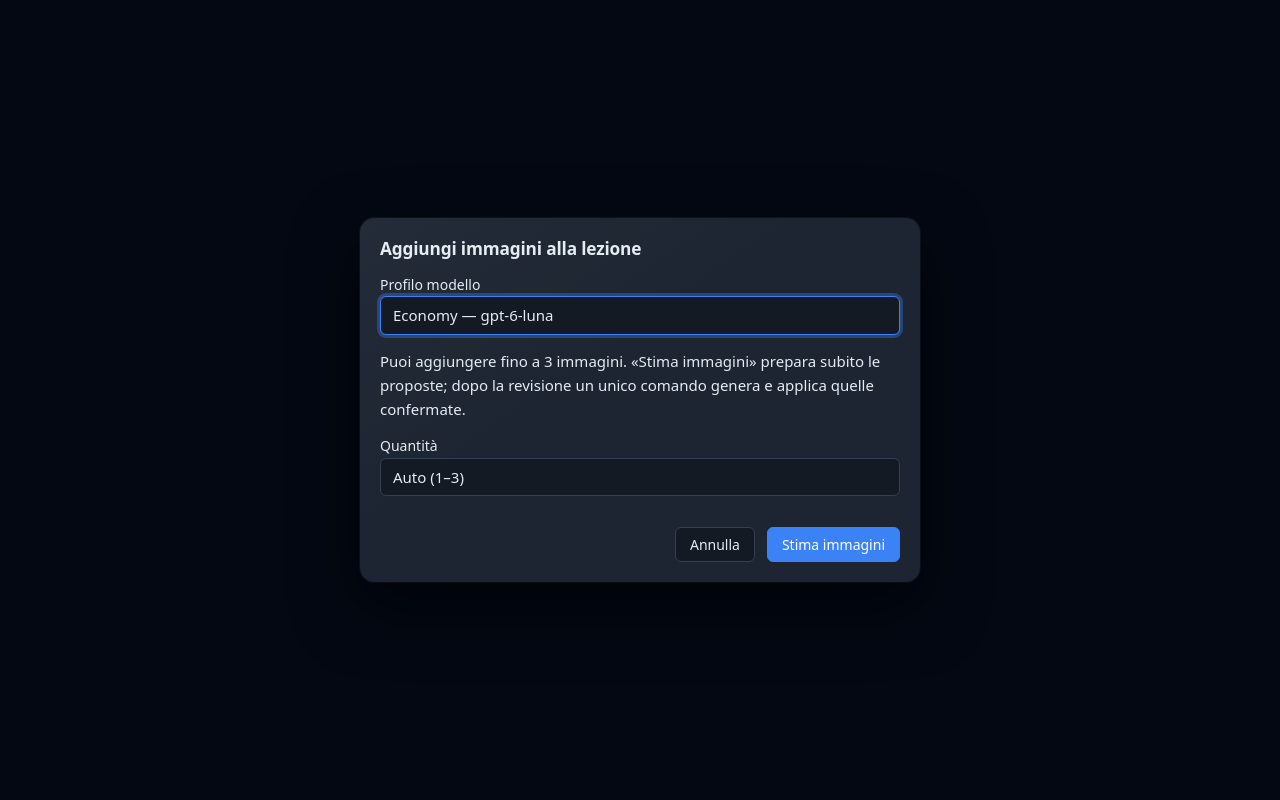
Scenario: LessonMultiVisualWorkflowDialog › salta la generazione di uno slot staged e riusa promotionRequestId al retry
Click the button "Stima immagini" at (833, 544), box [767, 527, 900, 562]
(page scrolled)
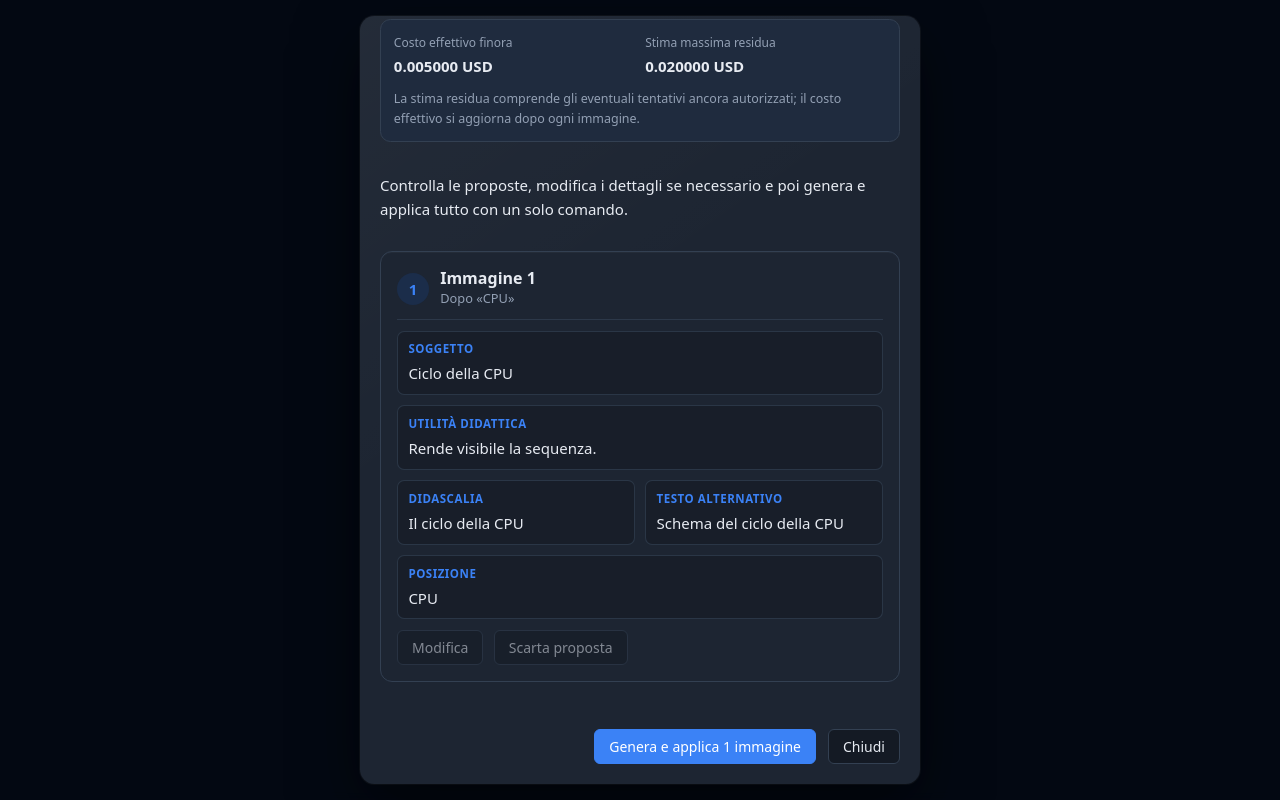
Click the button "Genera e applica 1 immagine" at (705, 746), box [594, 729, 816, 764]
(page scrolled)
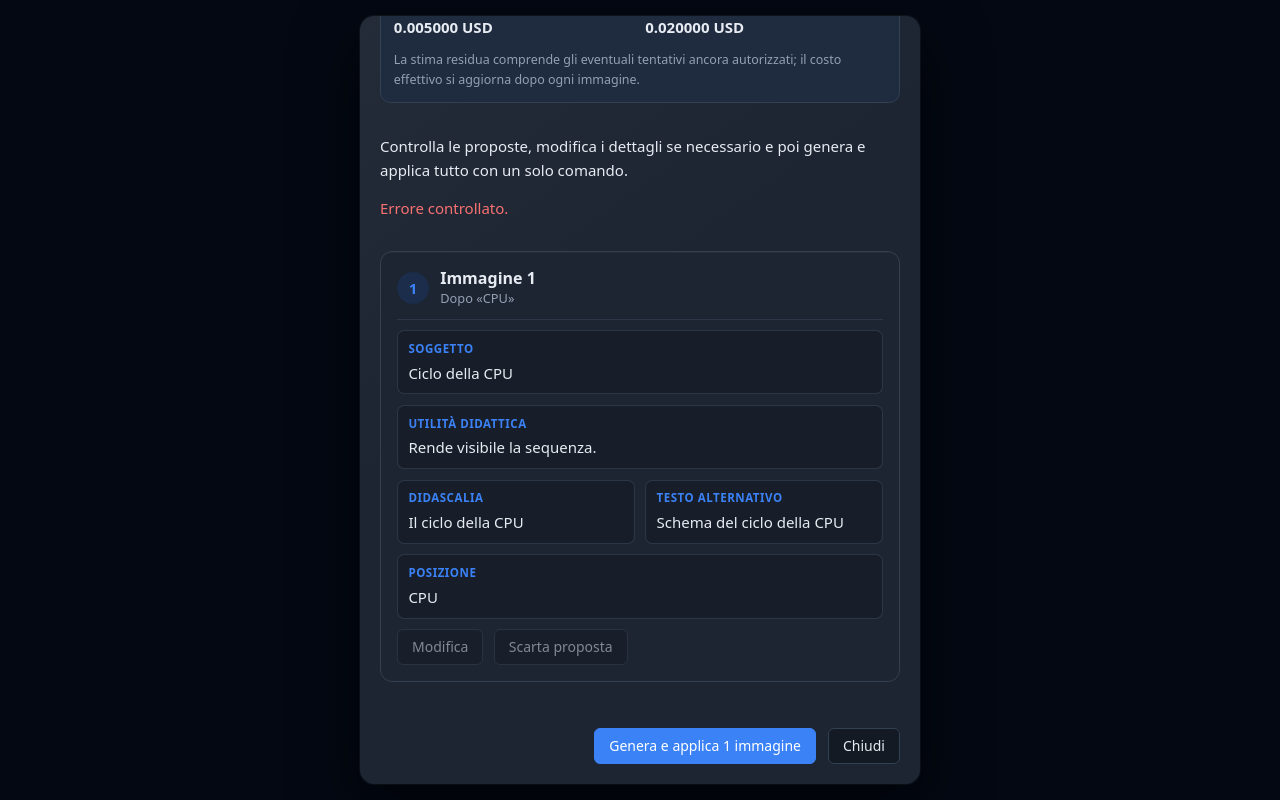
Check: the message "Errore controllato." is shown, box [380, 198, 508, 218]
Click the button "Genera e applica 1 immagine" at (705, 746), box [594, 728, 816, 764]
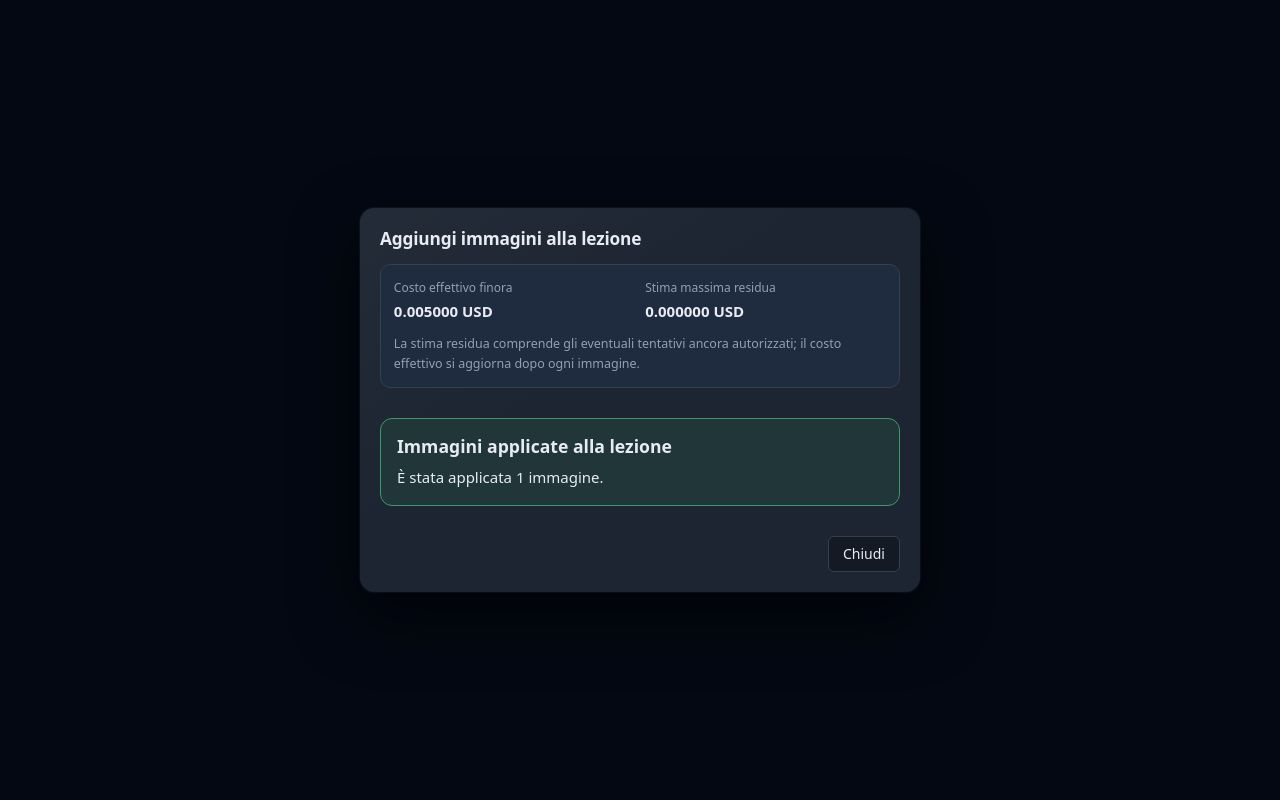
Check: the heading "Immagini applicate alla lezione" is shown, box [397, 434, 672, 458]
